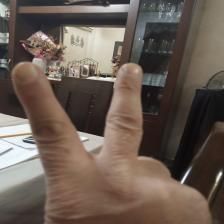two: (10, 59, 211, 223)
